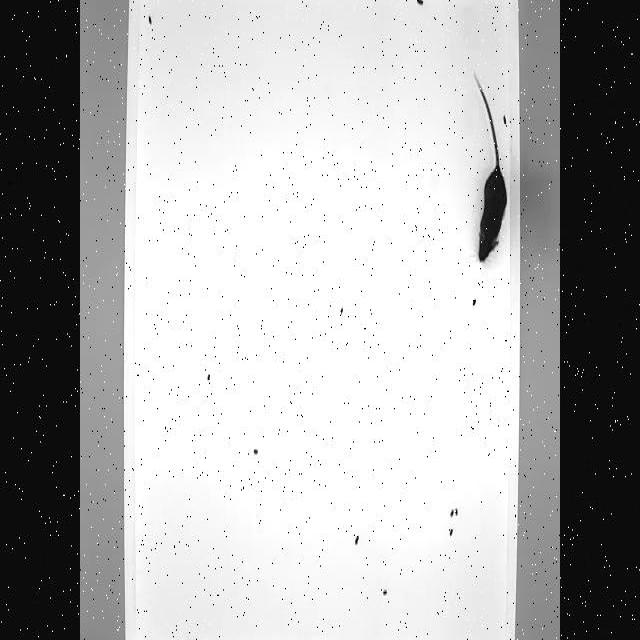rat: (472, 68, 509, 265)
